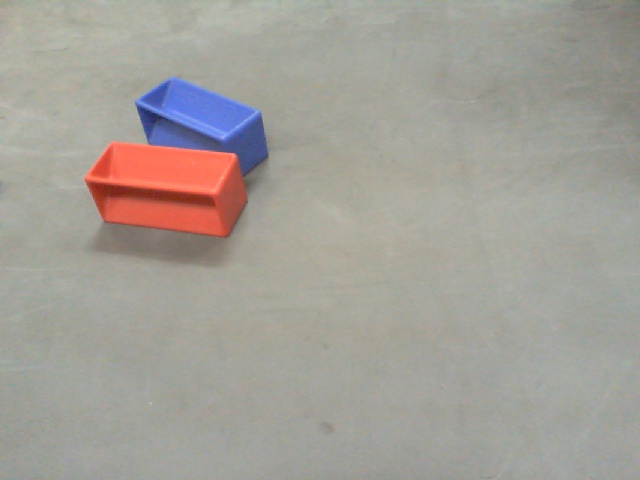BlueSample: (134, 79, 266, 177)
RedSample: (82, 136, 246, 238)
